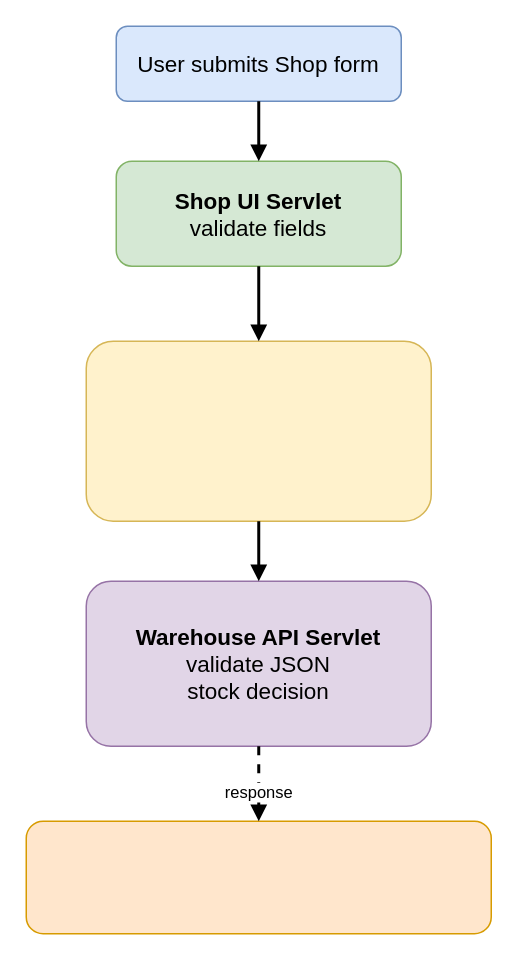
This 518x960 diagram has some shape labels left out. Here are the shapes that lost their labels. From the top down, the centre of each, then its label:
At pixel 258 430: "WarehouseClient HTTP POST + JSON 2s connect / 5s request timeout".
At pixel 258 877: "APPROVED: Shop increases stock REJECTED/error: stock unchanged".
